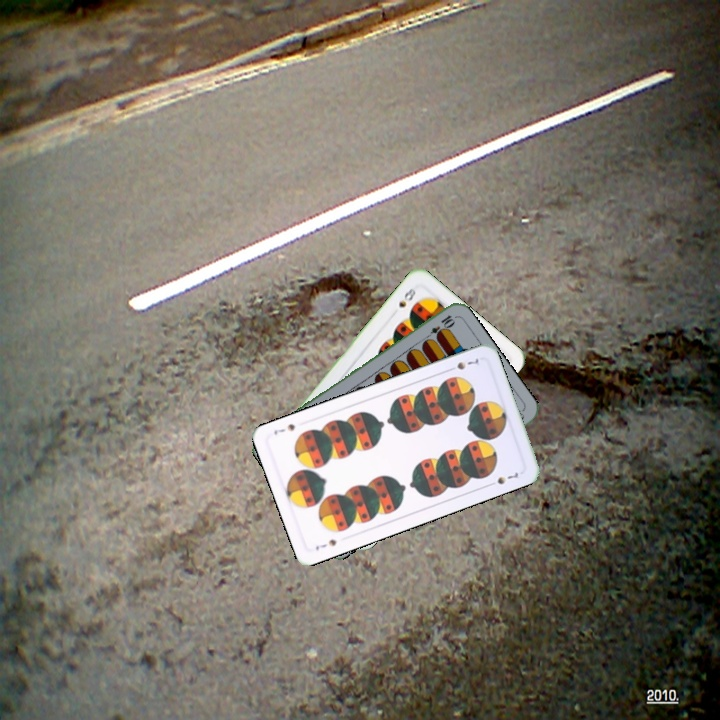E10: (421, 311, 457, 343)
S7: (444, 354, 481, 374), (311, 535, 339, 553)
S8: (395, 284, 418, 310)
